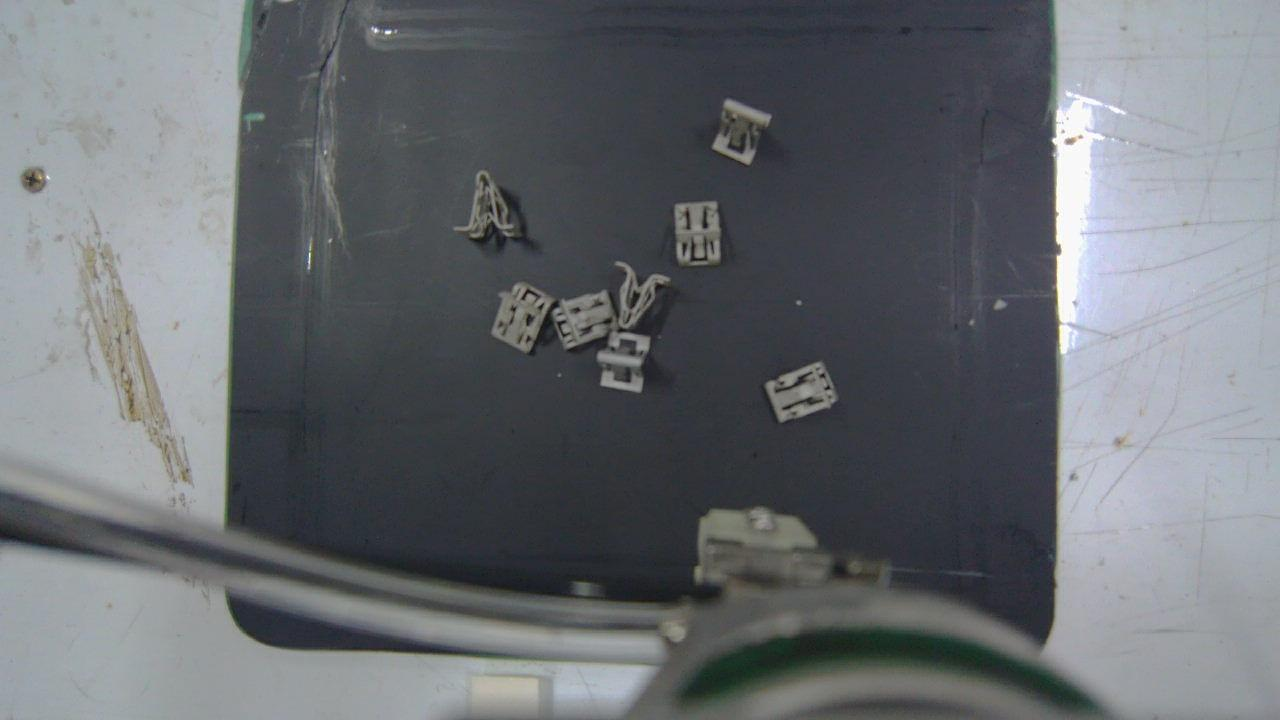ng: (491, 284, 558, 355), (764, 361, 839, 423), (452, 172, 519, 240), (710, 98, 771, 165), (550, 290, 618, 350), (617, 262, 672, 329), (676, 201, 722, 266)
pass: (597, 332, 650, 393)
